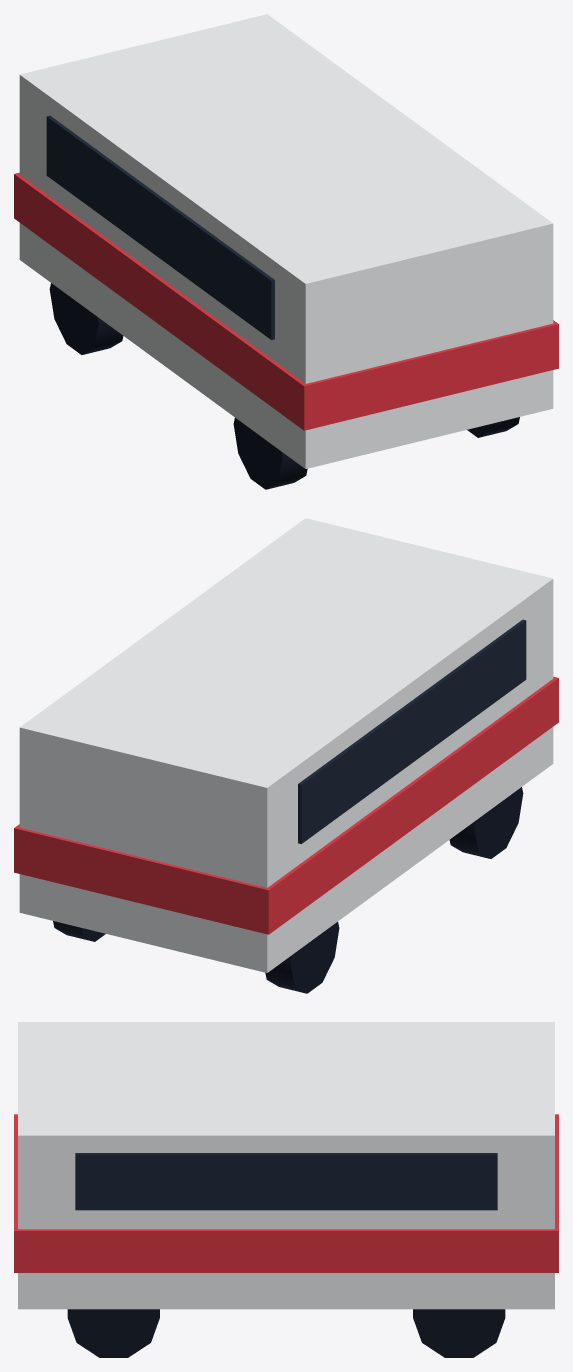
File: train.glb
3 views of the same model, one above another, from view 1: azimuth 30°, elevation 25°; view 2: azimuth 150°, elevation 25°; view 3: azimuth 270°, elevation 25° (orthographic). The views are drawn at different scales.
Parts seen in each view (by area): view 1: train_body, train_stripe, train_windows, train_w-0.30.45, train_w-0.3-0.45; view 2: train_body, train_stripe, train_windows, train_w-0.3-0.45, train_w-0.30.45; view 3: train_body, train_stripe, train_windows, train_w0.3-0.45, train_w0.30.45.
Boxes of the visible parts, box(x1,y1,x2,y2) form: train_body: box(19, 14, 553, 468); train_stripe: box(14, 172, 558, 430); train_windows: box(46, 115, 274, 339); train_w-0.30.45: box(233, 418, 307, 489); train_w-0.3-0.45: box(49, 283, 123, 354); train_body: box(19, 518, 553, 972); train_stripe: box(14, 676, 558, 934); train_windows: box(298, 619, 526, 843); train_w-0.3-0.45: box(265, 922, 339, 993); train_w-0.30.45: box(449, 787, 523, 858); train_body: box(18, 1022, 554, 1309); train_stripe: box(14, 1114, 558, 1272); train_windows: box(75, 1153, 497, 1210); train_w0.3-0.45: box(413, 1309, 505, 1357); train_w0.30.45: box(67, 1309, 159, 1357).
Bounding box in the file's own units: 0.72 × 0.6441 × 1.42.
